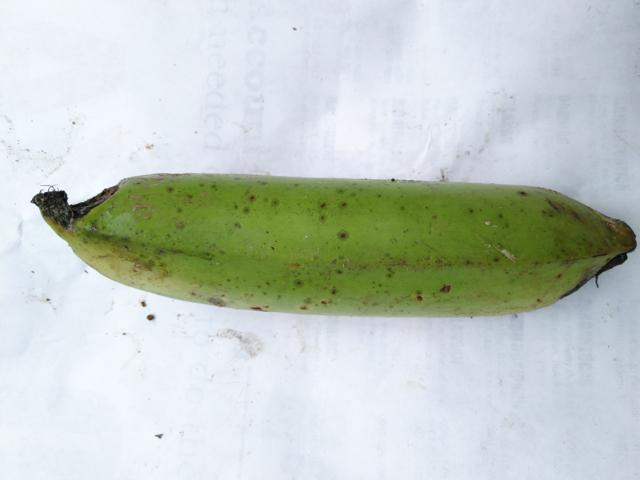rotten: (8, 155, 137, 227), (547, 229, 639, 321)
unripe: (18, 137, 632, 327)
